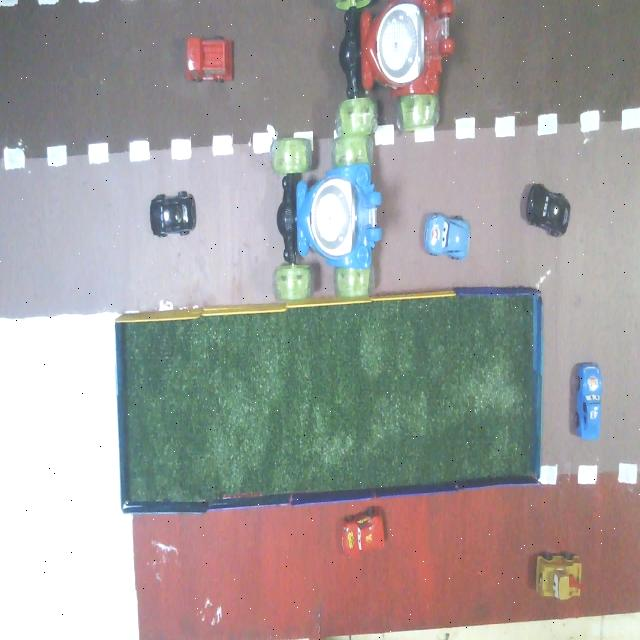driver car f: (271, 134, 381, 301)
small cars: (526, 184, 570, 237), (424, 213, 470, 260), (536, 553, 581, 600), (342, 507, 384, 557), (150, 191, 195, 237), (187, 37, 233, 82), (576, 363, 602, 440)
